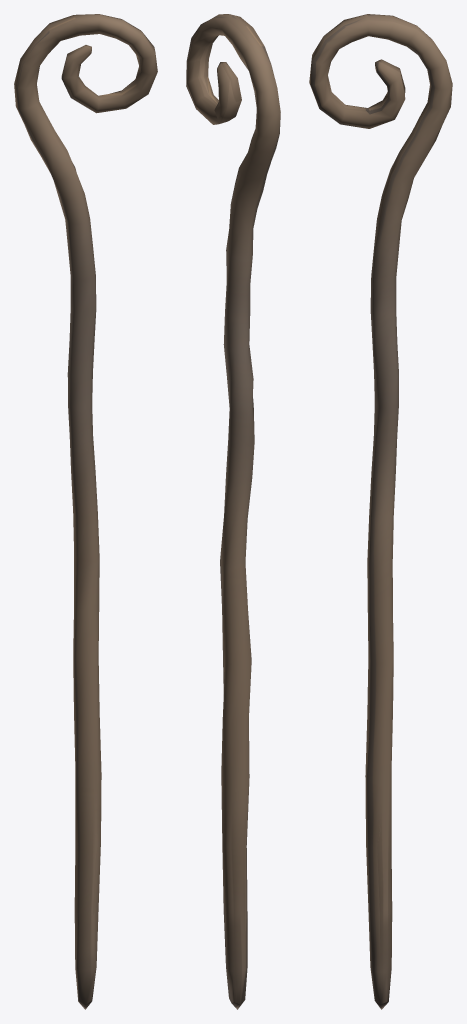
The model's file is Wizard Staff.fbx.
3 renders of one model, left to right at view 1: azimuth 90°, elevation 25°; view 2: azimuth 210°, elevation 25°; view 3: azimuth 270°, elevation 25°, orthographic.
Parts seen in each view (by area): view 1: Wizard Staff; view 2: Wizard Staff; view 3: Wizard Staff.
Boxes of the visible parts, box(x1,y1,x2,y2) form: Wizard Staff: box(14, 14, 157, 1009); Wizard Staff: box(186, 14, 280, 1009); Wizard Staff: box(309, 14, 452, 1009).
Bounding box in the file's own units: 0.0758 × 1.87 × 0.2442.
Materials: 1 (1 with a texture image).
